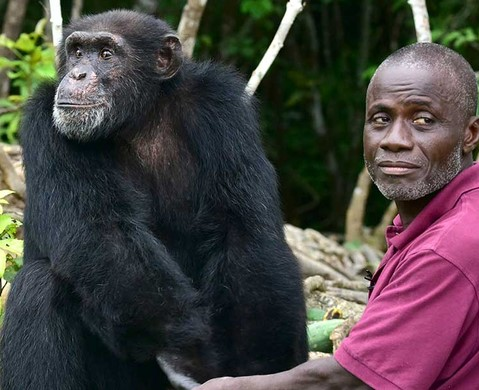Chimpanzee: (20, 10, 292, 370)
